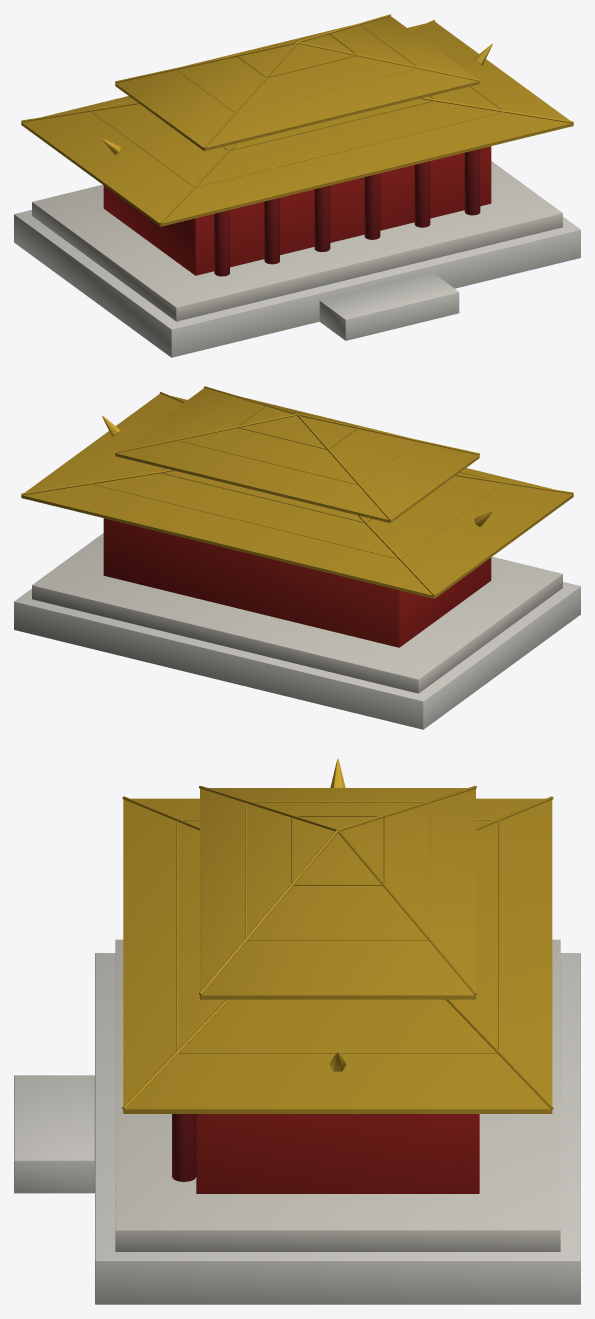
Rendered from lm-forbidden.glb.
3 views of the same model, one above another, from view 1: azimuth 30°, elevation 25°; view 2: azimuth 150°, elevation 25°; view 3: azimuth 270°, elevation 25° (orthographic). The views are drawn at different scales.
Size of the model in its own units: 18.19 by 8.76 by 14.
